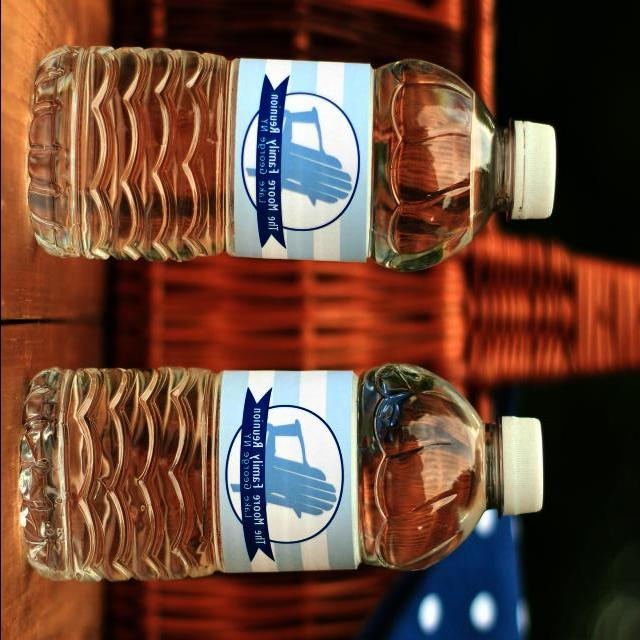cap: (494, 414, 546, 520), (505, 119, 558, 222)
label: (232, 51, 374, 268), (212, 368, 357, 576)
not-crumbled: (22, 37, 565, 276), (14, 356, 552, 584)
